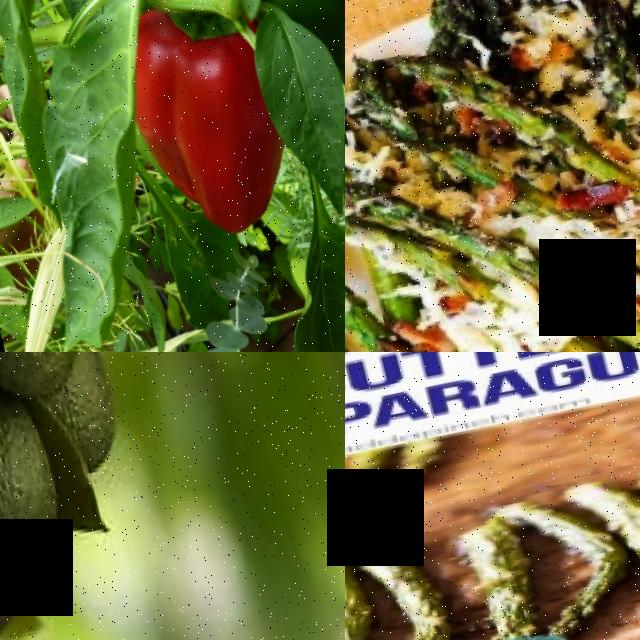asparagus: (522, 487, 621, 636), (356, 521, 461, 640), (452, 521, 538, 638), (615, 481, 640, 640), (345, 535, 377, 640)
avocado: (0, 383, 76, 593), (23, 352, 138, 478)
bell pepper: (106, 0, 305, 247)
